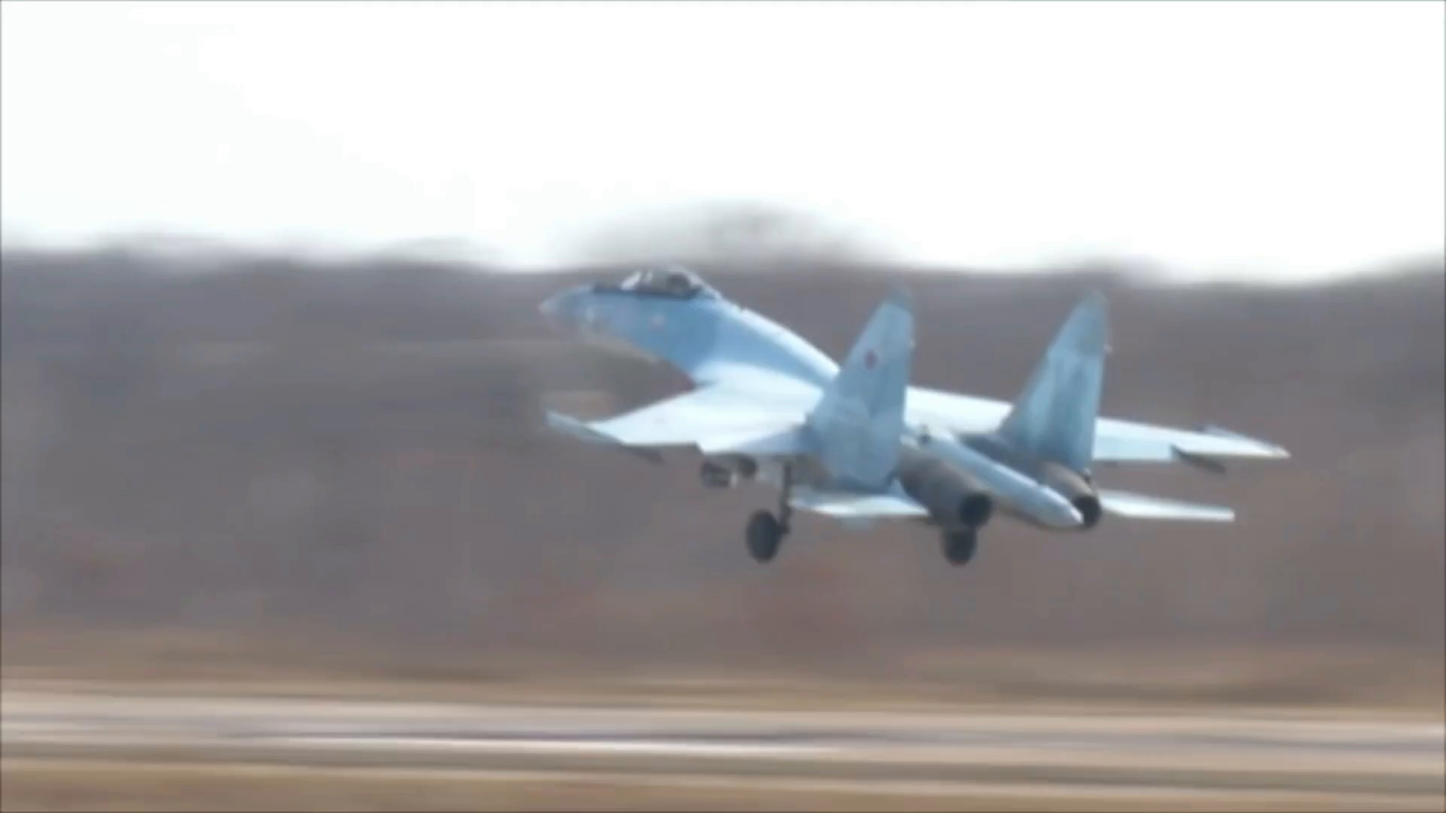Su35: (540, 265, 1293, 564)
